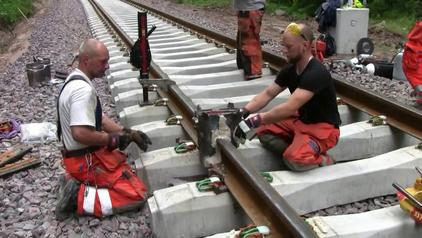stay: (230, 6, 269, 71)
